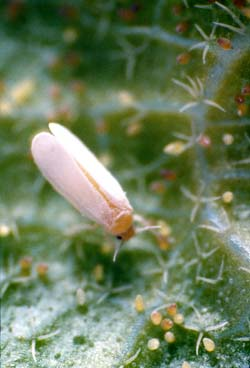whitefly: (29, 118, 163, 260)
